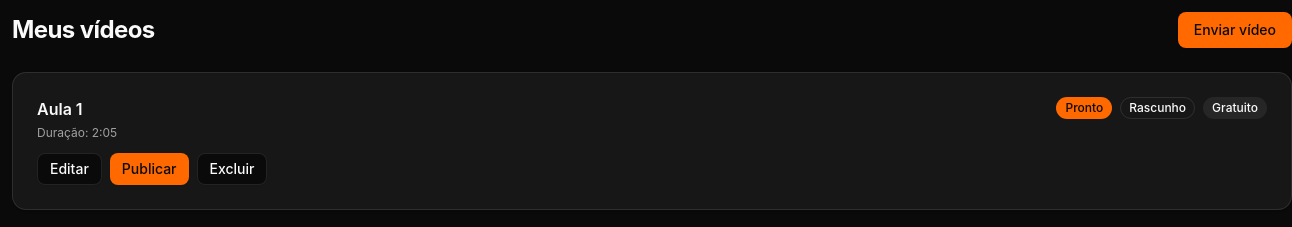
it: MyVideosPage › publishes a READY video
Click the button with aria-label "Publicar Aula 1".
click(149, 169)  # box [110, 153, 188, 185]
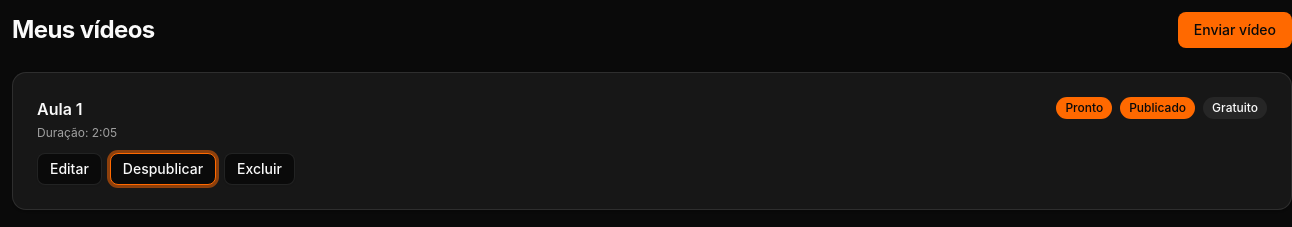
expect the button with aria-label "Despublicar Aula 1" is shown: met, box [110, 153, 216, 185]
